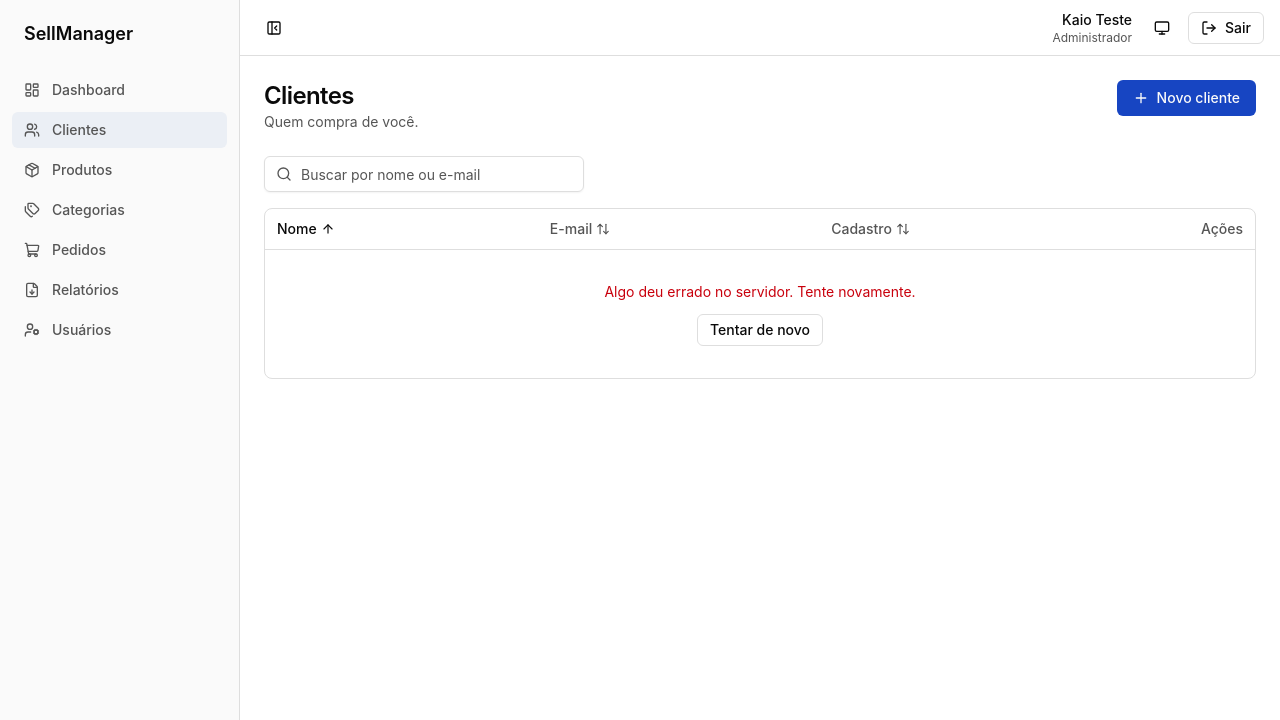
Clientes › erro na listagem permite tentar de novo
This screenshot has width=1280, height=720.
expect the message shows "Algo deu errado no servidor": met, box [604, 282, 916, 300]
Click the button "Tentar de novo" at (760, 330), box [697, 314, 823, 346]
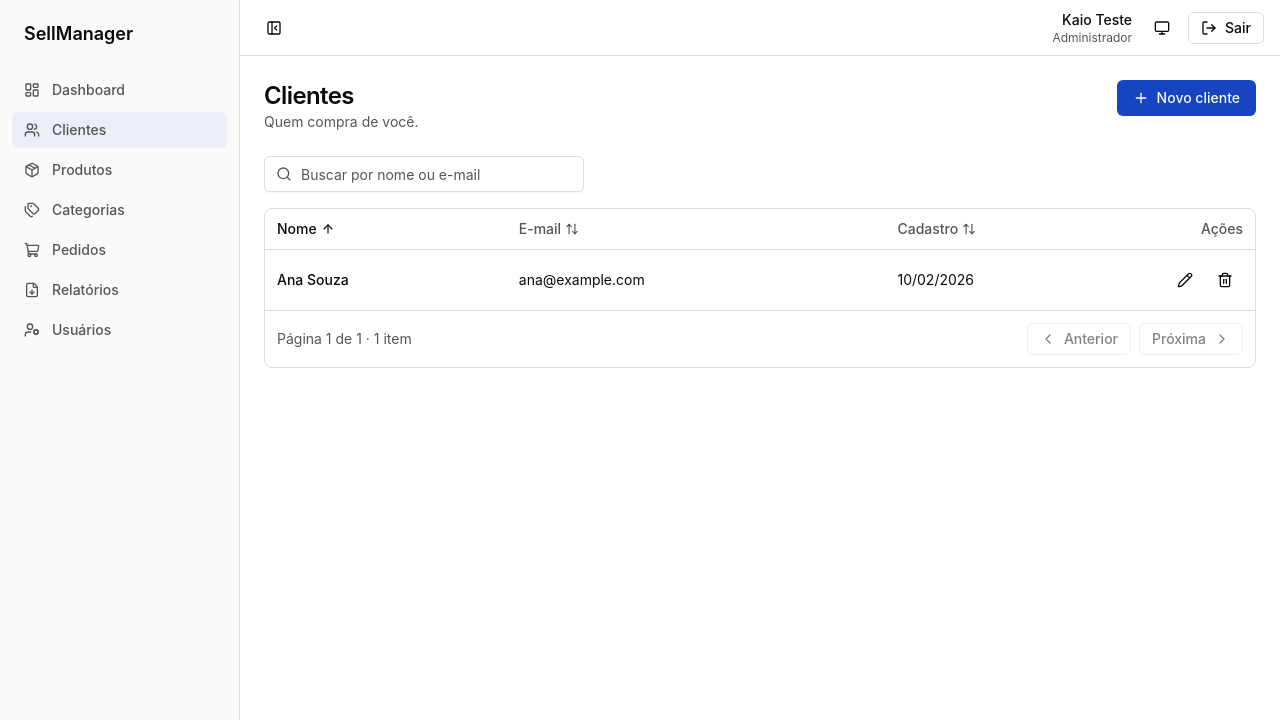
expect the link "Ana Souza" is shown: met, box [277, 270, 349, 288]
